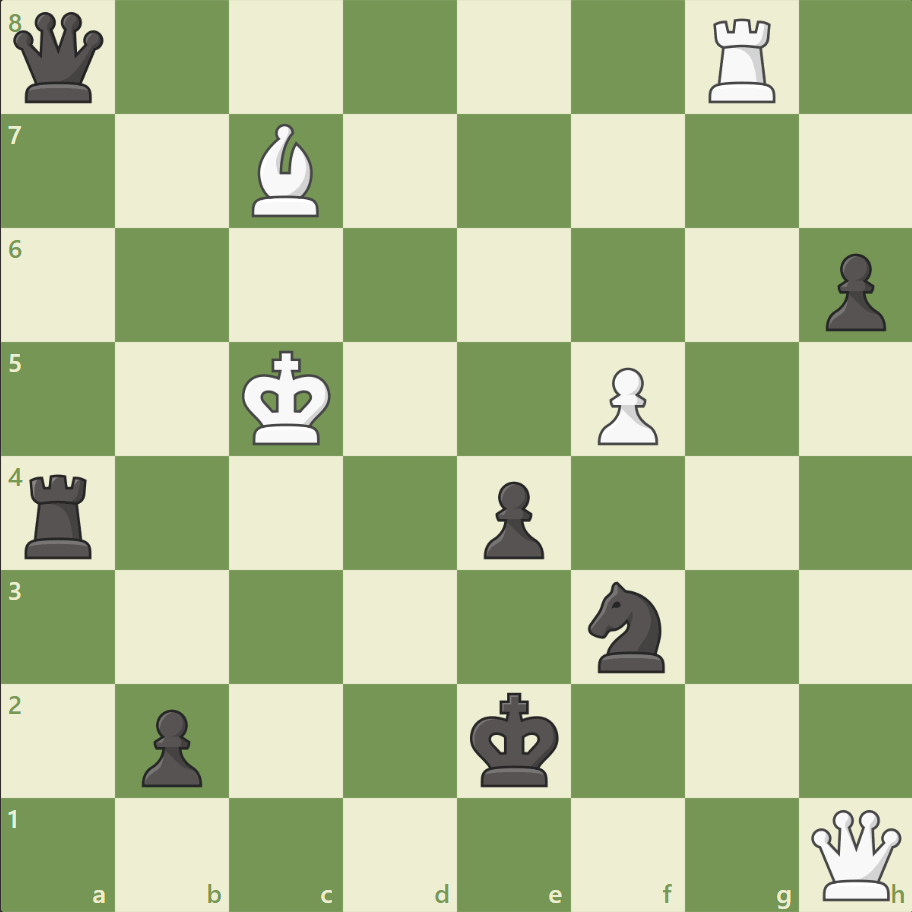B: (244, 120, 328, 222)
K: (238, 344, 338, 452)
P: (588, 359, 662, 450)
Q: (805, 804, 904, 903)
R: (700, 12, 783, 109)
k: (465, 685, 565, 793)
n: (579, 575, 676, 677)
p: (474, 473, 549, 564), (133, 700, 208, 791), (815, 246, 889, 337)
q: (10, 9, 109, 108)
r: (19, 466, 102, 563)
